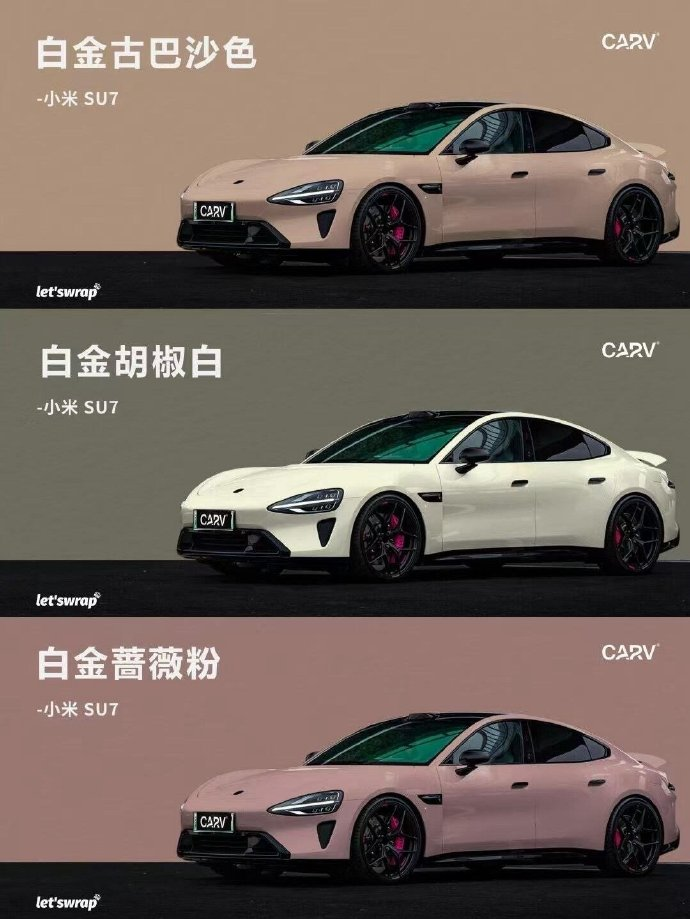su7: (178, 702, 682, 886), (170, 101, 685, 269), (178, 411, 681, 574)
